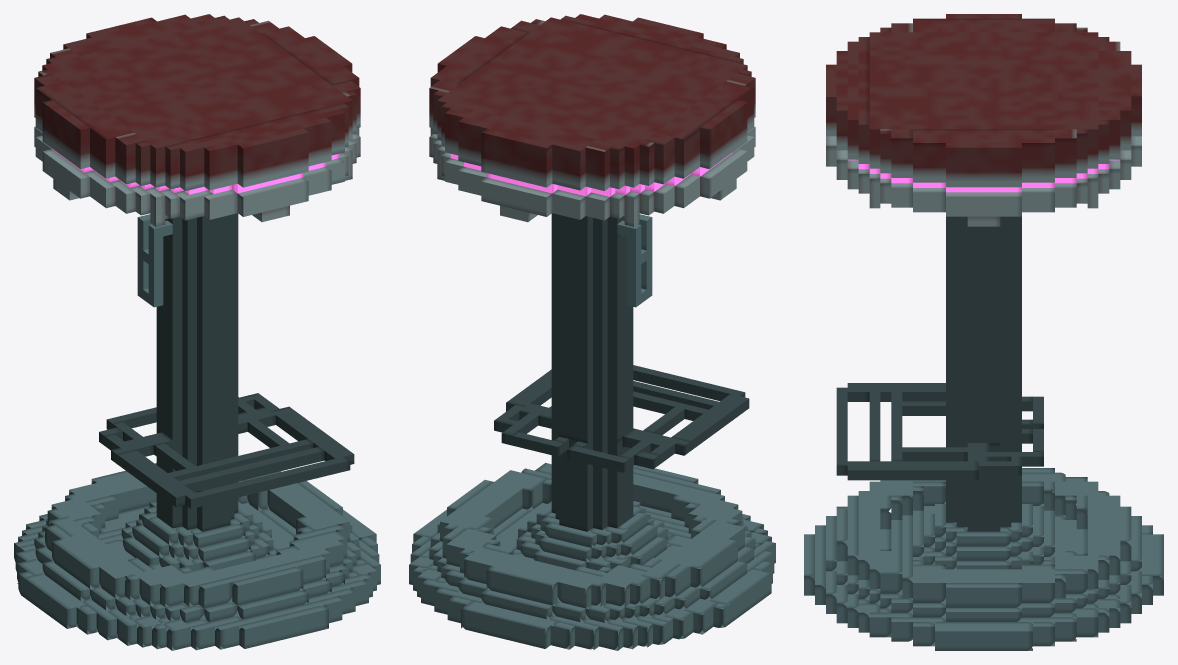
File: Stolik_bar.dae
The picture shows the model from 3 angles, left to right: view 1: azimuth 30°, elevation 25°; view 2: azimuth 150°, elevation 25°; view 3: azimuth 270°, elevation 25°; orthographic projection.
Visible parts, largest first — view 1: Content; view 2: Content; view 3: Content.
Boxes of the visible parts, x1,y1,x2,y2 form: Content: (14,14,380,650); Content: (409,14,775,650); Content: (804,14,1163,650).
Bounding box in the file's own units: 33 × 50 × 33.
1 material, 1 textured.
